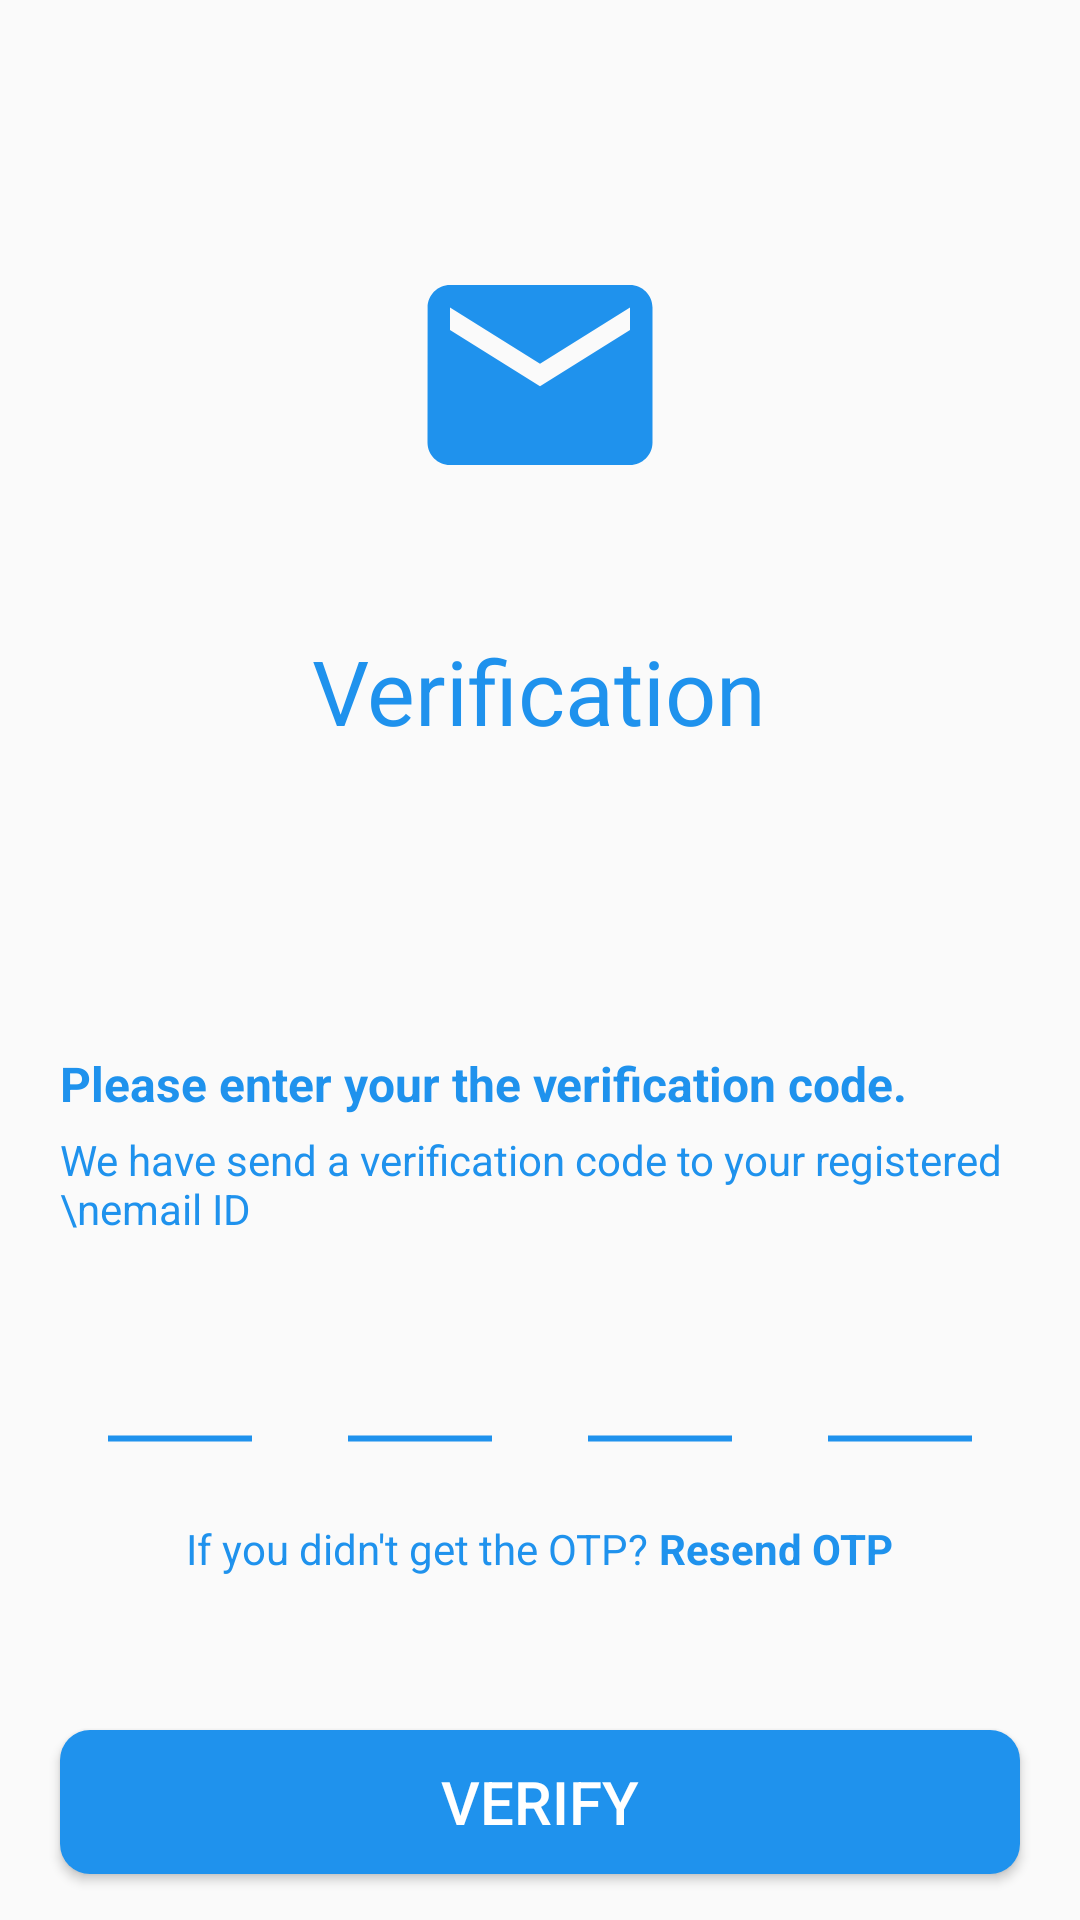

Screen size 1080 × 1920. Icon name, then its box in pixels as (x1, y1, x2, y2):
email: (427, 285, 653, 465)
